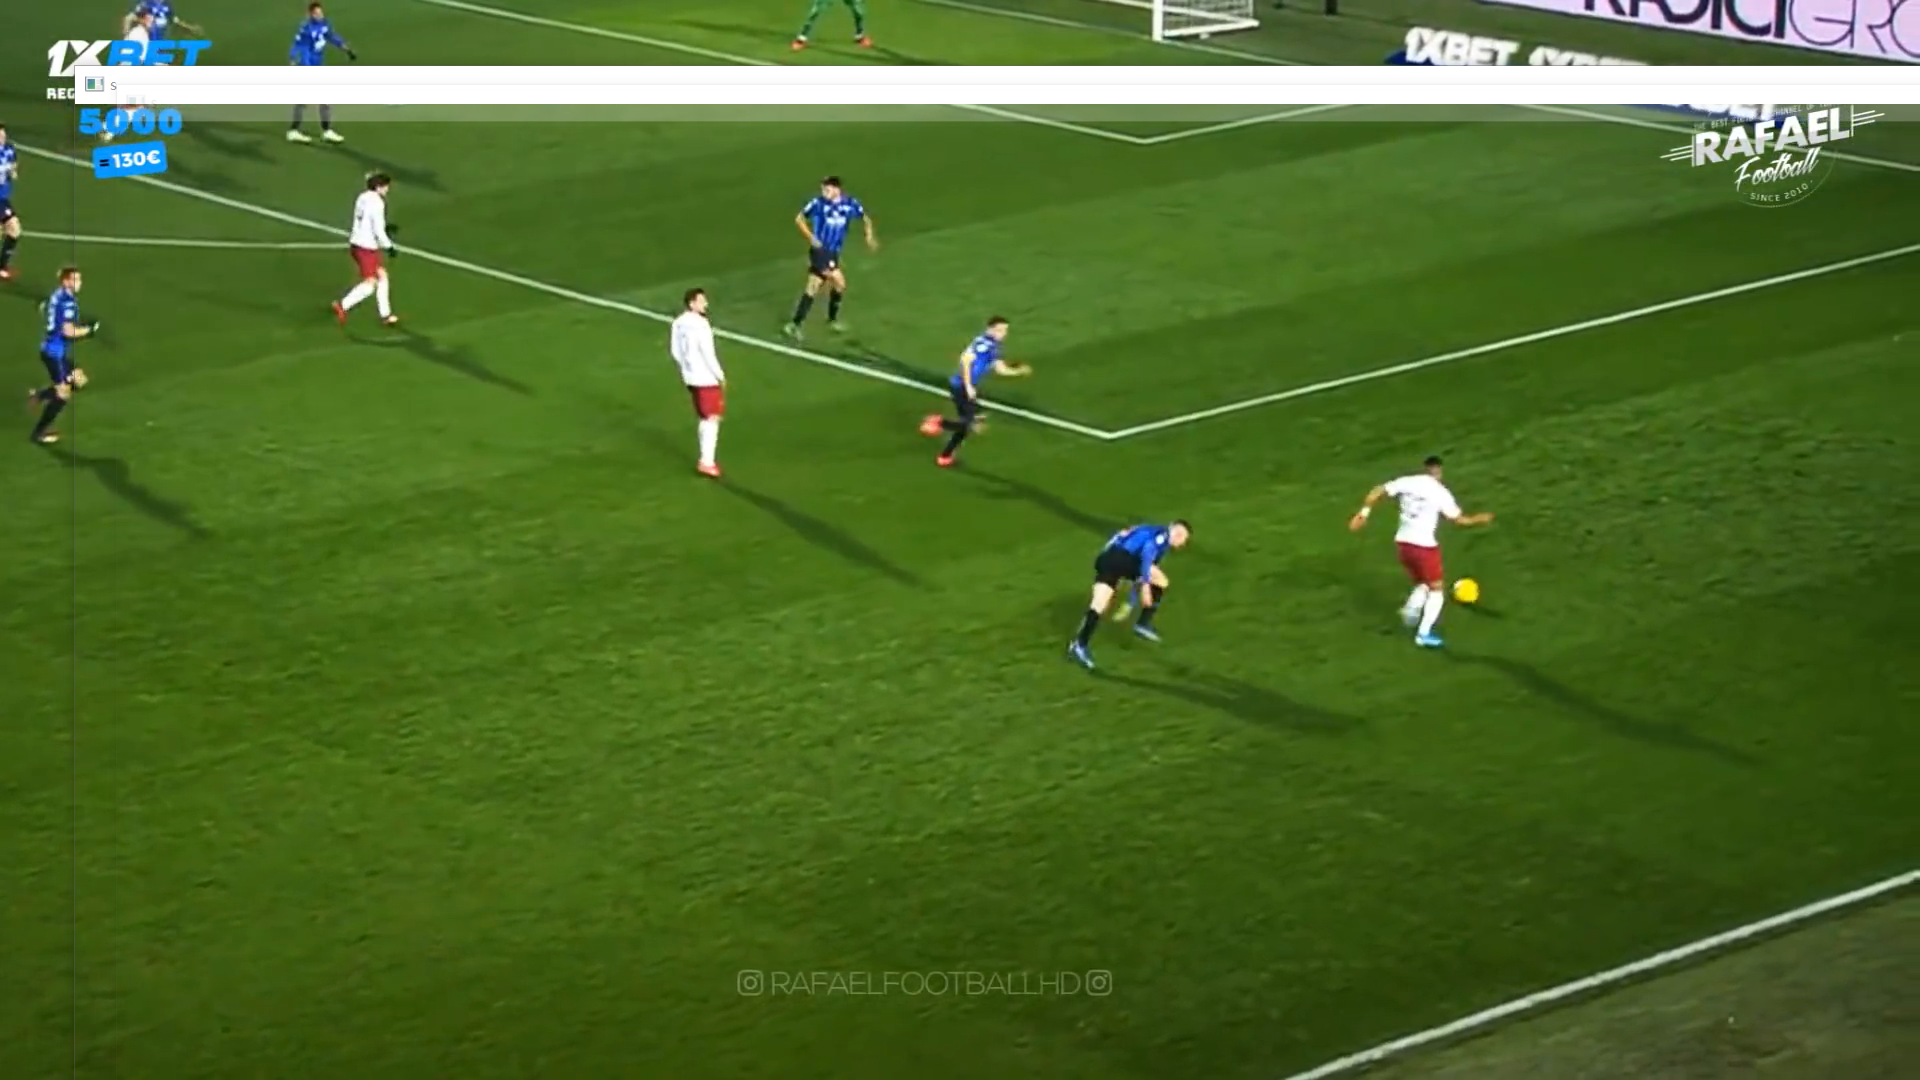ft: (1449, 575, 1480, 608)
